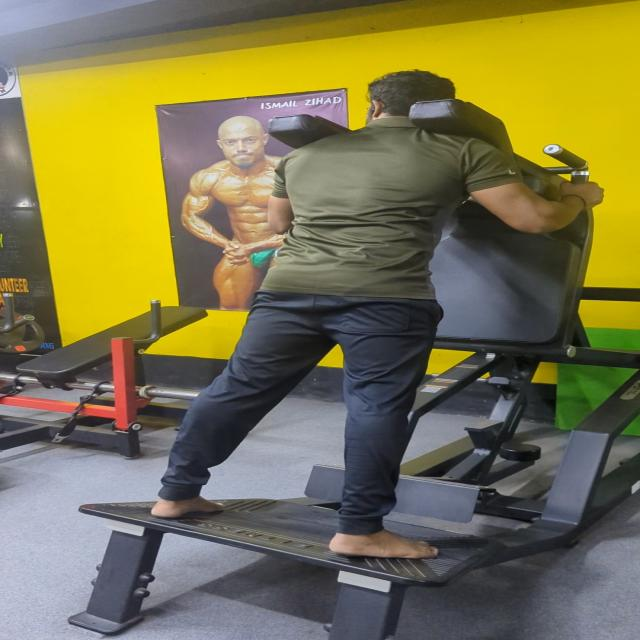Normal_SquatsWithBarbell: (122, 52, 640, 591)
